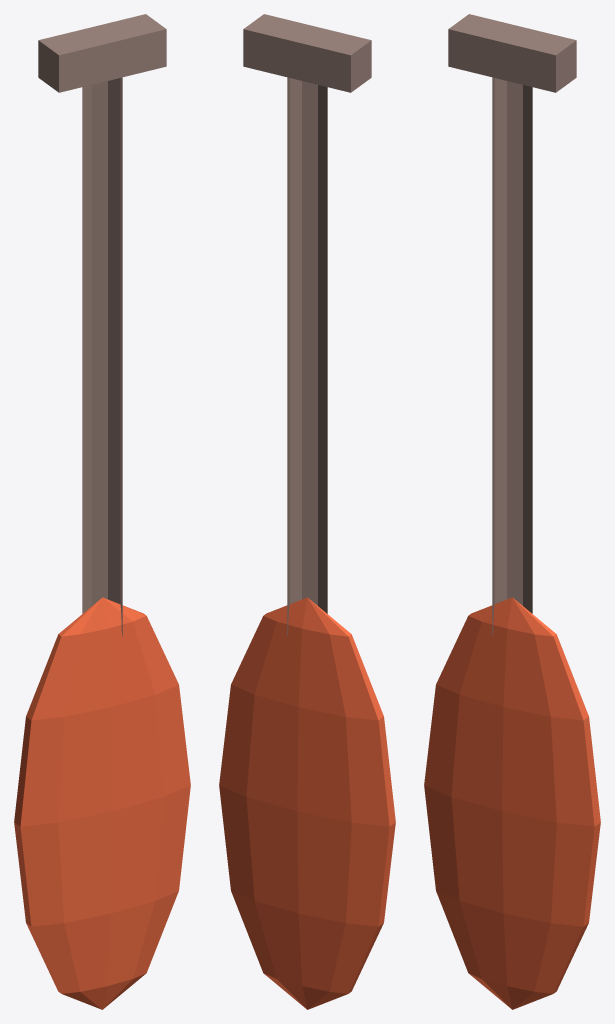
File: paddel.glb
The picture shows the model from 3 angles, left to right: view 1: azimuth 30°, elevation 25°; view 2: azimuth 150°, elevation 25°; view 3: azimuth 330°, elevation 25°; orthographic projection.
Visible parts, largest first — view 1: paddel; view 2: paddel; view 3: paddel.
Boxes of the visible parts, x1=… form: paddel: x1=14, y1=14, x2=190, y2=1009; paddel: x1=219, y1=14, x2=395, y2=1009; paddel: x1=424, y1=14, x2=600, y2=1009.
Bounding box in the file's own units: 0.1902 × 1.04 × 0.04.
